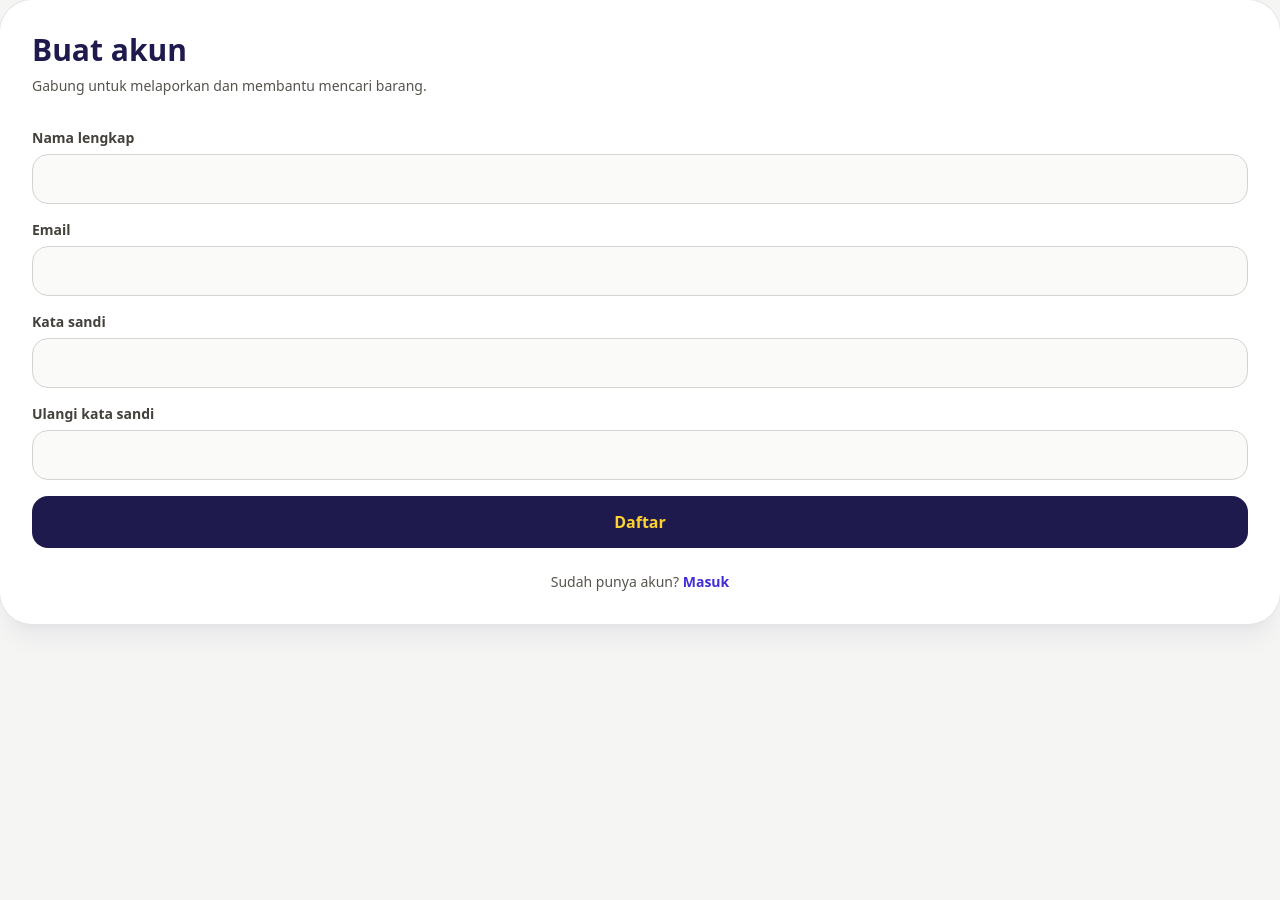
Test case: RegisterPage › register berhasil lalu menuju halaman login
Type "Dian" into the field labelled "Nama lengkap".
click(640, 179); type("Dian")  # box [32, 154, 1248, 204]
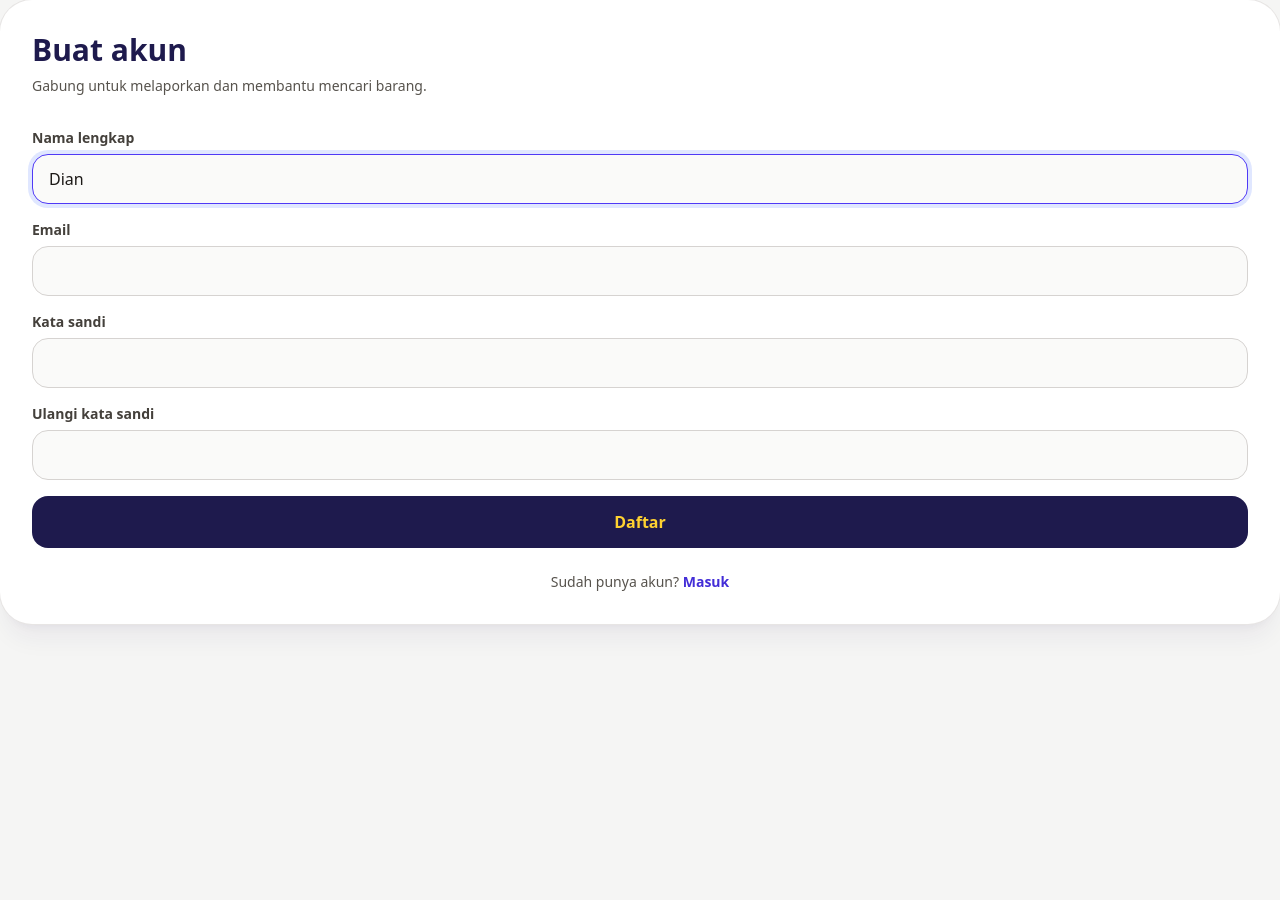
Type "d@b.co" into the field labelled "Email".
click(640, 271); type("d@b.co")  # box [32, 246, 1248, 296]
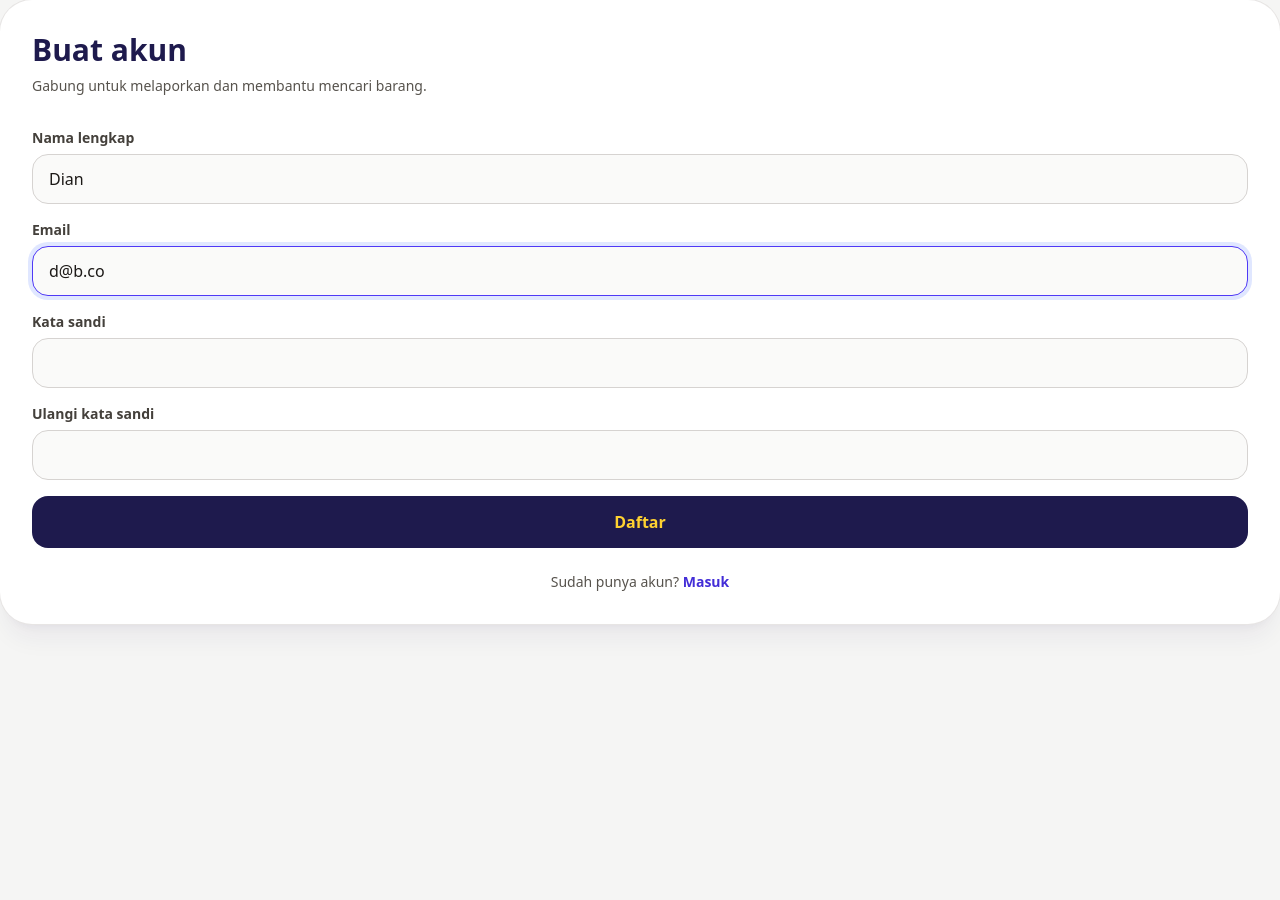
Type "123456" into the password field labelled "Kata sandi".
click(640, 363); type("123456")  # box [32, 338, 1248, 388]
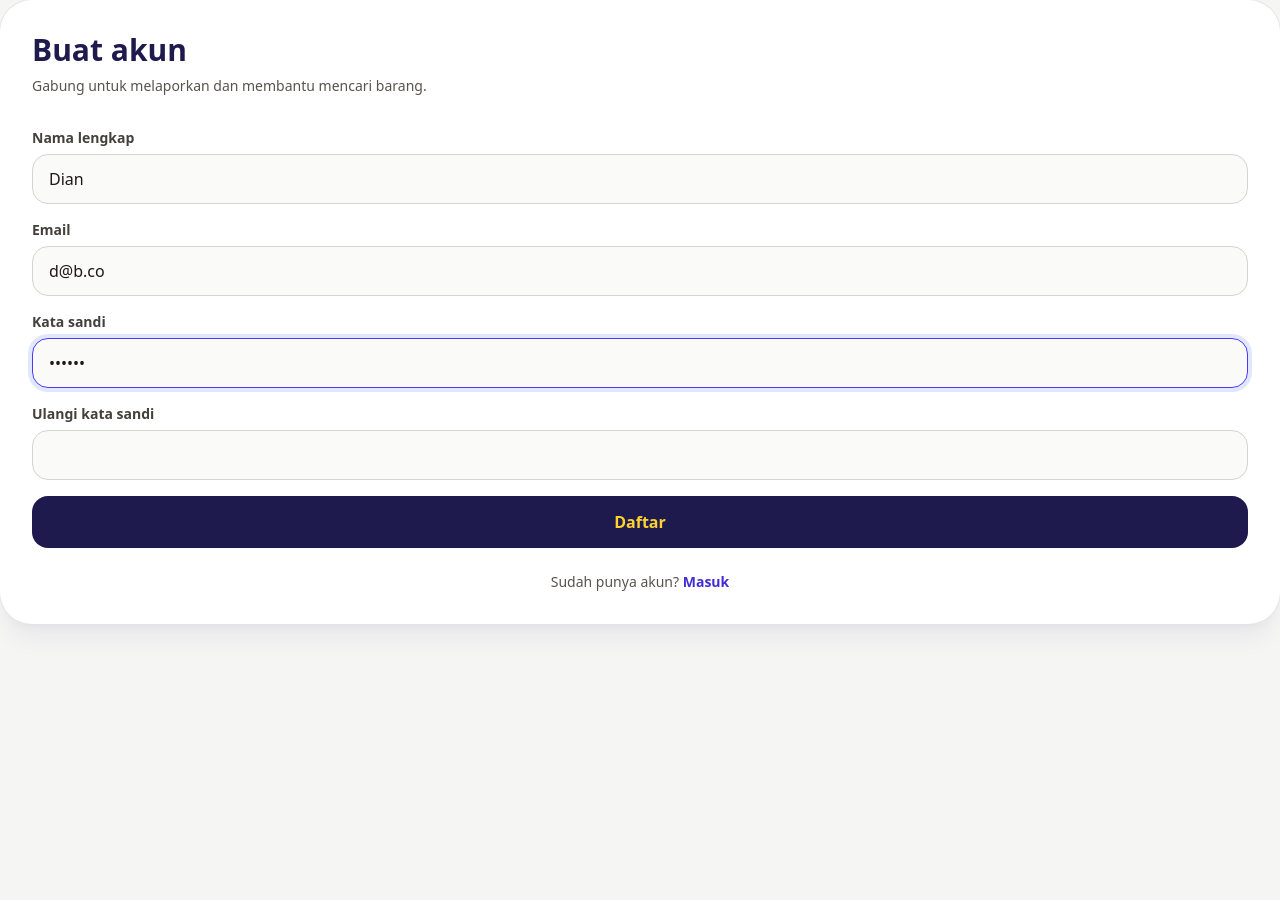
Type "123456" into the password field labelled "Ulangi kata sandi".
click(640, 455); type("123456")  # box [32, 430, 1248, 480]
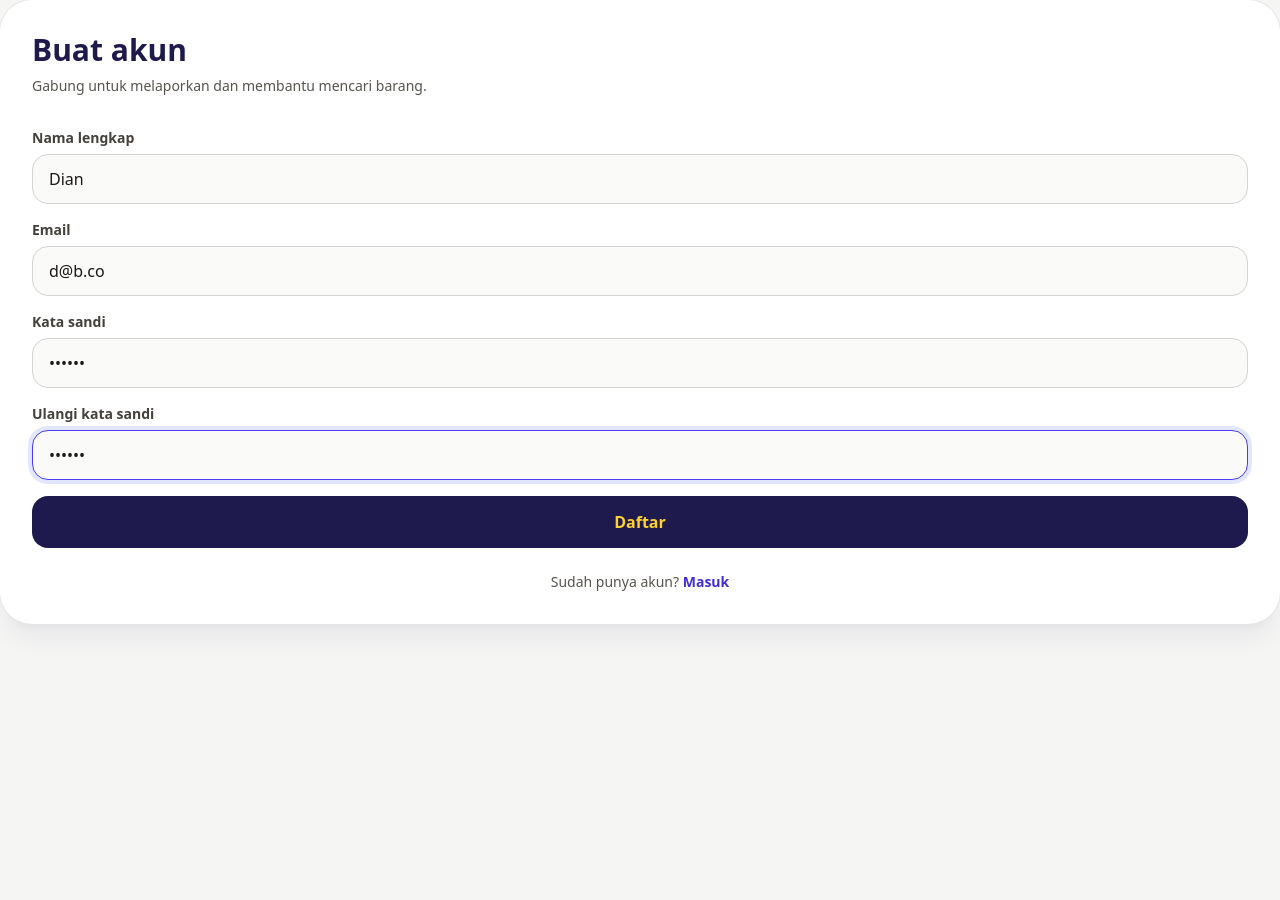
Click the button "Daftar".
click(640, 522)  # box [32, 496, 1248, 548]
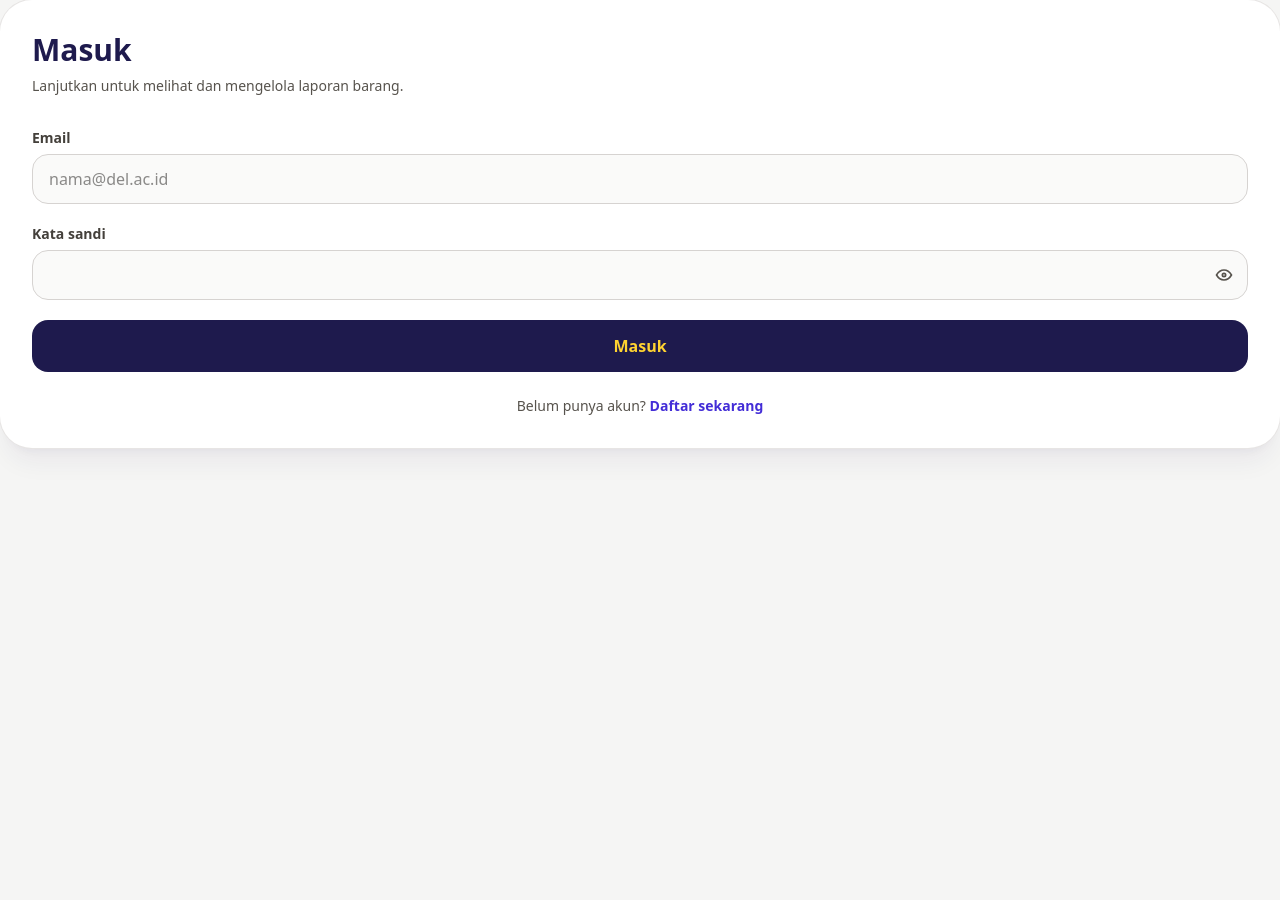
Check: the heading "Masuk" is shown, box [32, 29, 132, 70]
